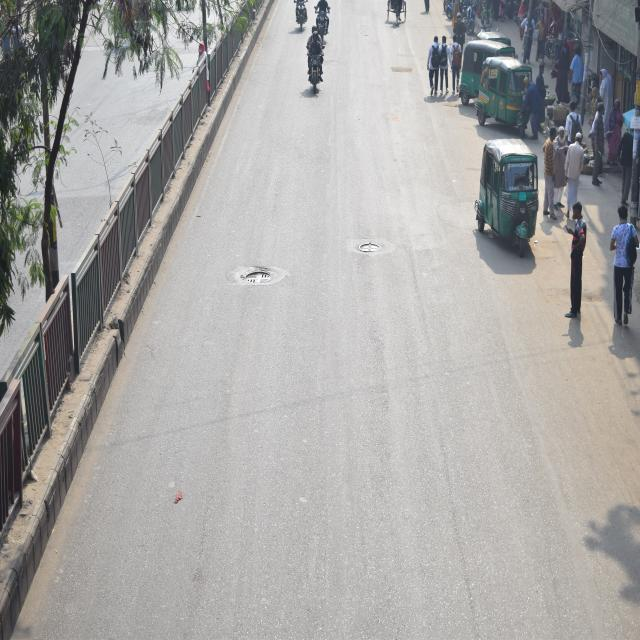motorbike: (305, 34, 324, 103), (289, 0, 307, 33), (317, 10, 330, 40)
